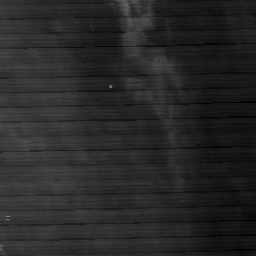Target: (107, 83, 113, 89)
